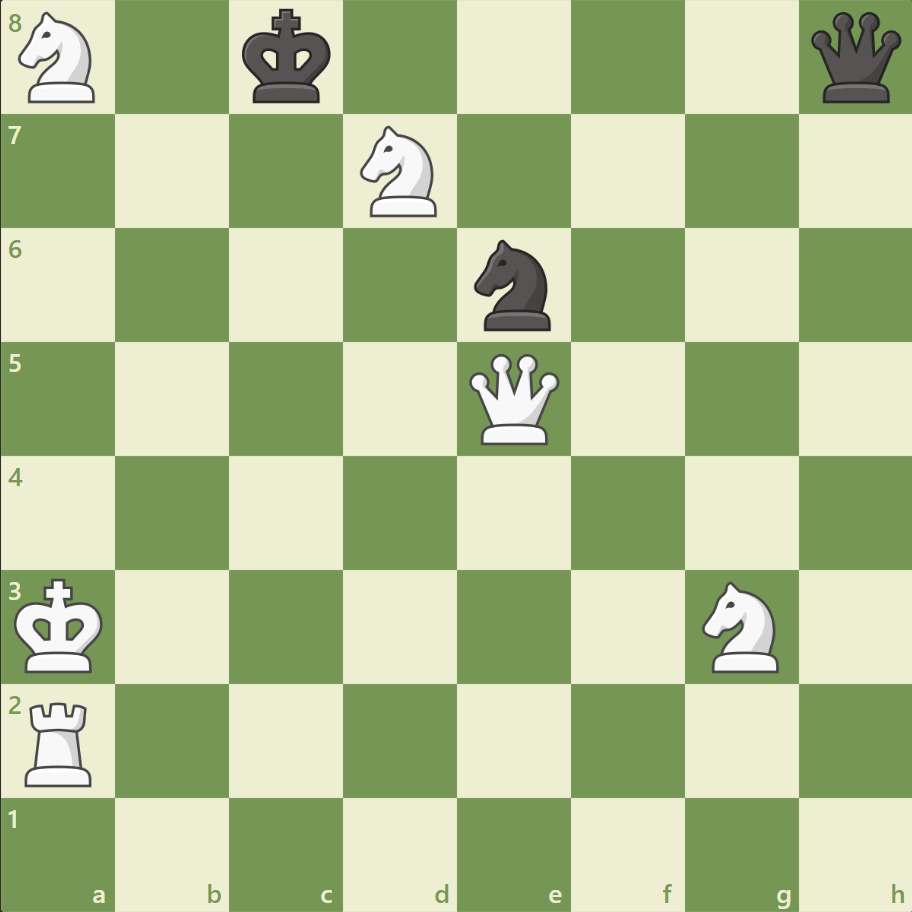K: (11, 571, 111, 679)
N: (351, 121, 449, 223), (11, 7, 108, 110), (692, 575, 789, 677)
Q: (464, 349, 563, 449)
R: (19, 693, 102, 790)
k: (238, 4, 338, 112)
n: (465, 234, 562, 337)
q: (805, 9, 904, 108)
